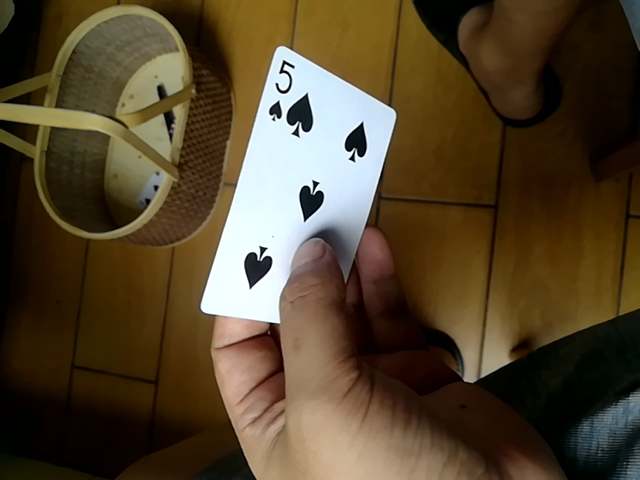ht 5: (214, 42, 394, 331)
